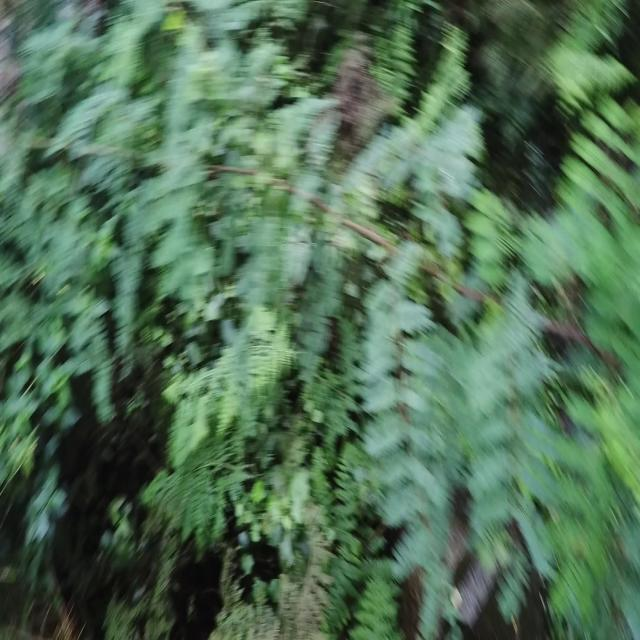Mysore-Thorn-Weed: (0, 0, 614, 564)
